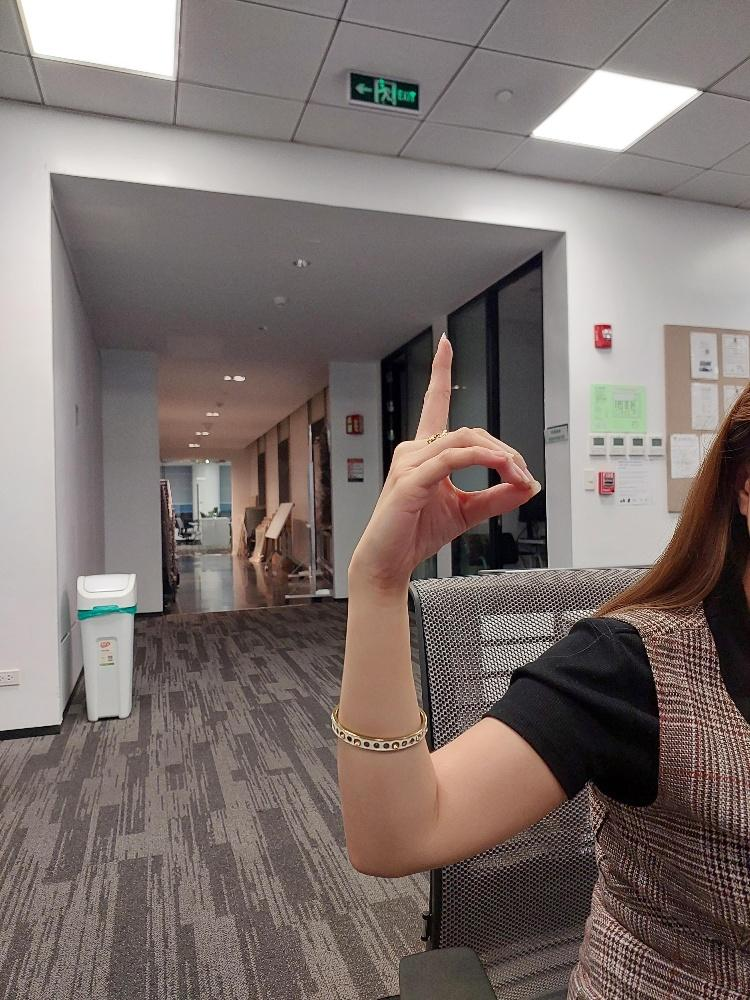d: (345, 330, 548, 593)
